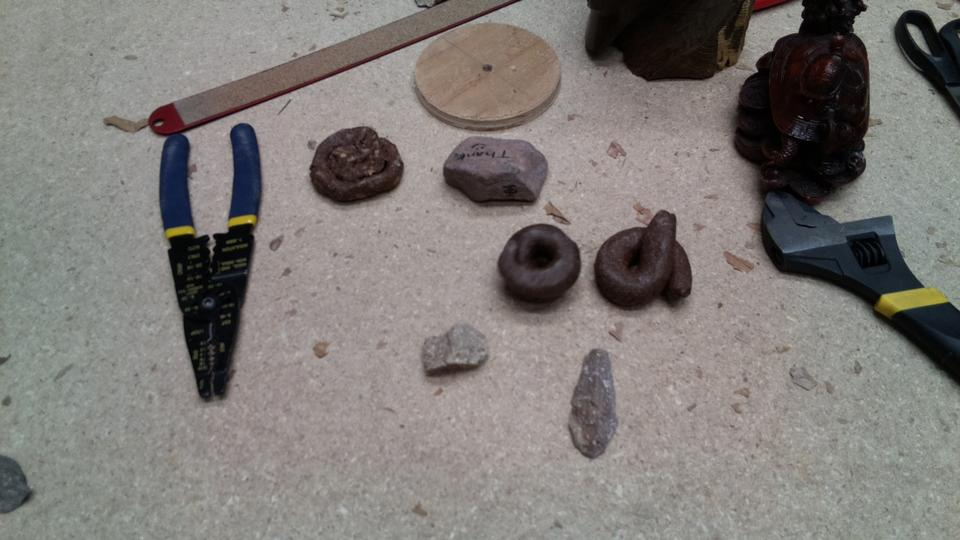poop: (591, 209, 695, 313), (304, 123, 407, 206), (492, 221, 583, 305)
